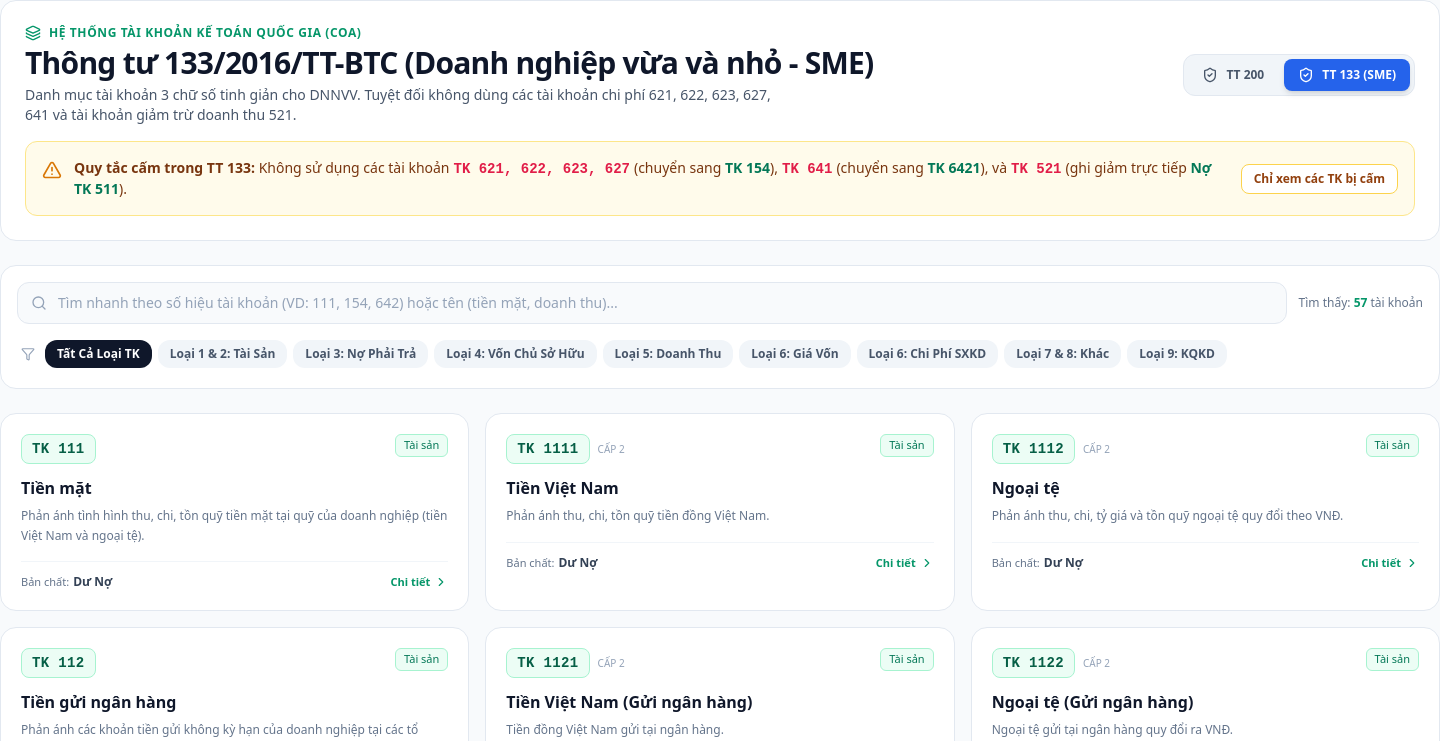
Test case: ADVERSARIAL BATTERY 5: UI Explorer & Modal User Journey Stress Tests › should display Circular 133 safeguard warning banner when in TT 133 mode
This screenshot has width=1440, height=741.
Expected: the text "Quy tắc cấm trong TT 133:" is shown, [74,158,255,177]
Note: Toggle prohibited accounts view
Click the button "Chỉ xem các TK bị cấm": coordinates (1319, 178) [1241,164,1398,194]
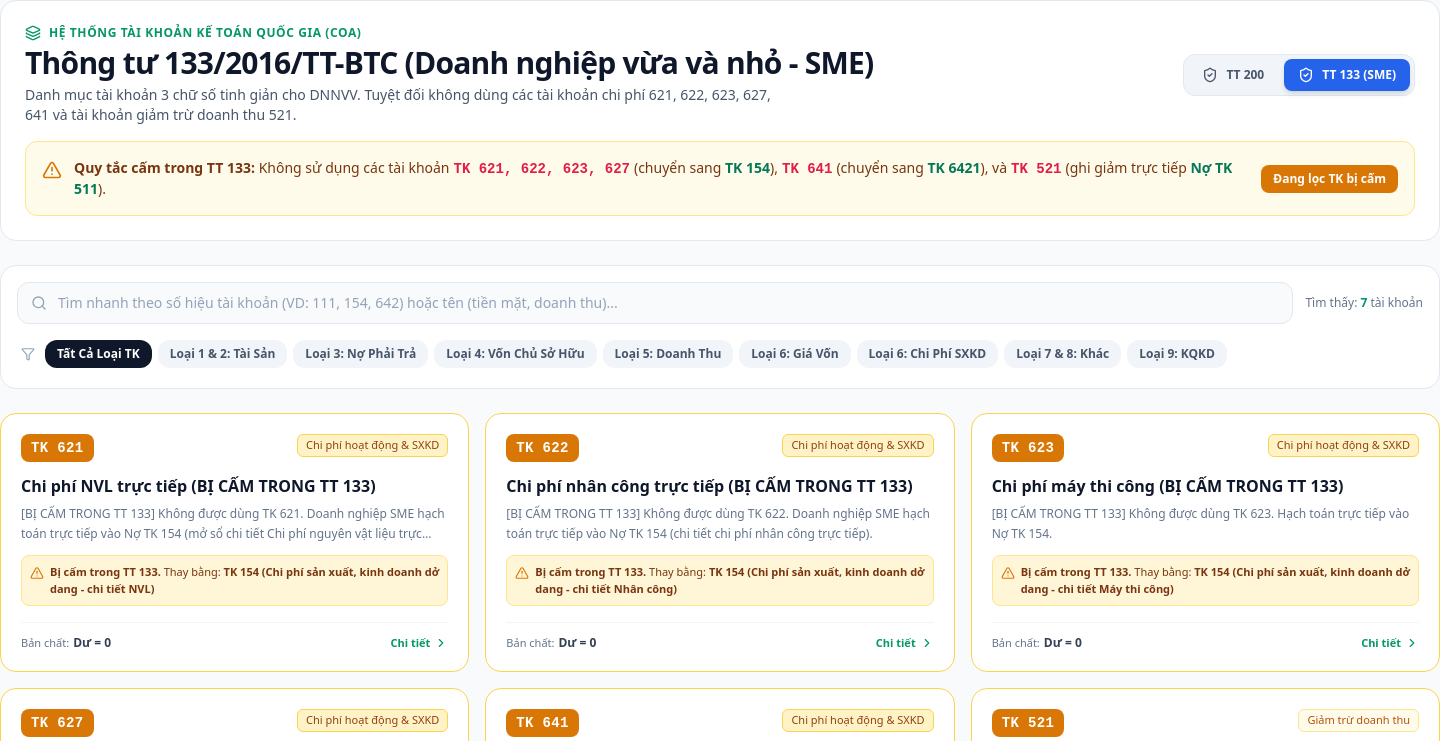
Expected: the button "Đang lọc TK bị cấm" is shown, [1261,164,1398,192]
